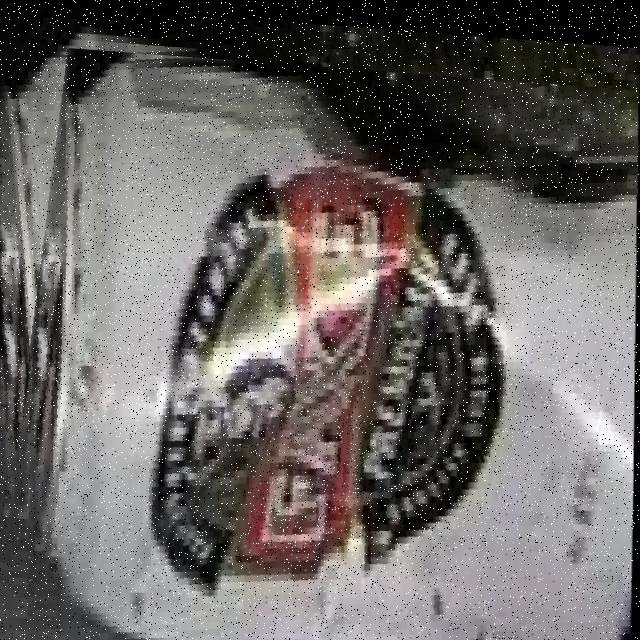can: (28, 55, 639, 640)
